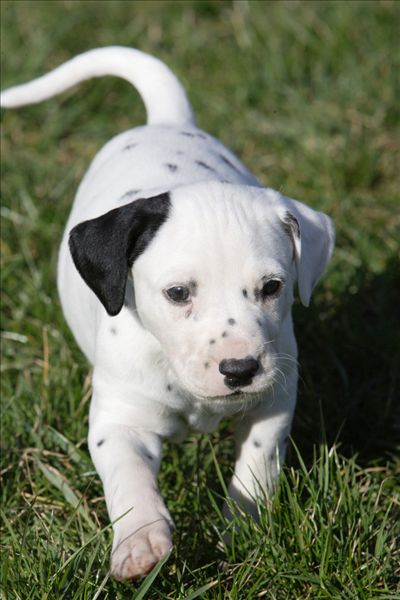dog: (68, 203, 338, 425)
